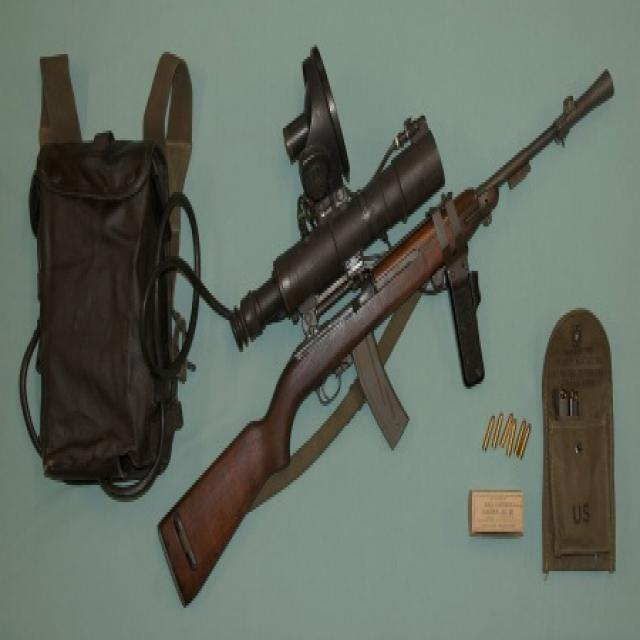weapon: (159, 69, 616, 616)
